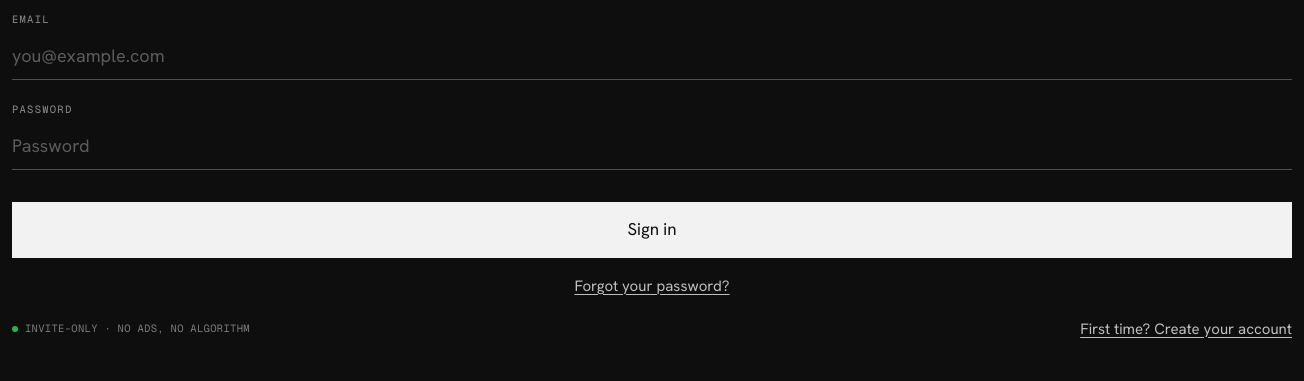
AuthCard › renders the mapped error for wrong credentials
In the field with placeholder "you@example.com": [652, 56] box [12, 32, 1292, 80], type "a@b.com"
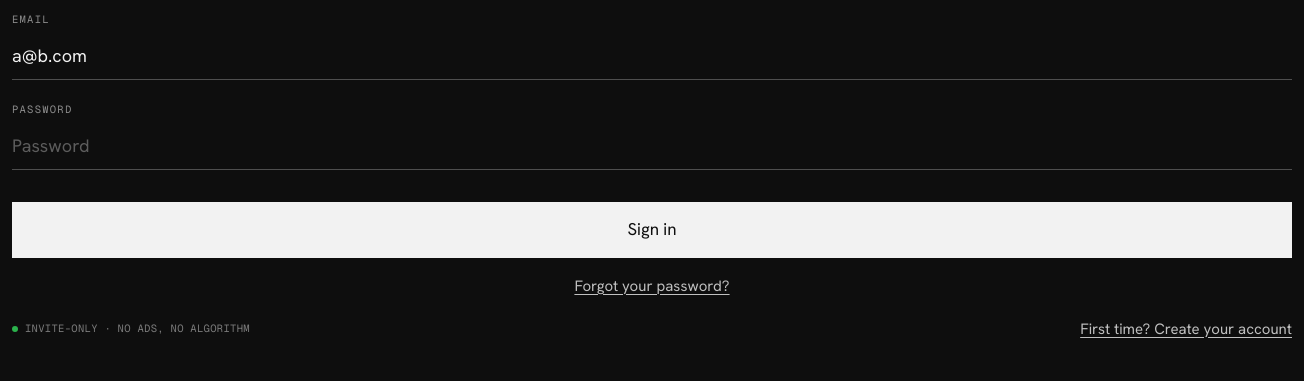
In the password field with placeholder "Password": [652, 146] box [12, 122, 1292, 170], type "longenough1"
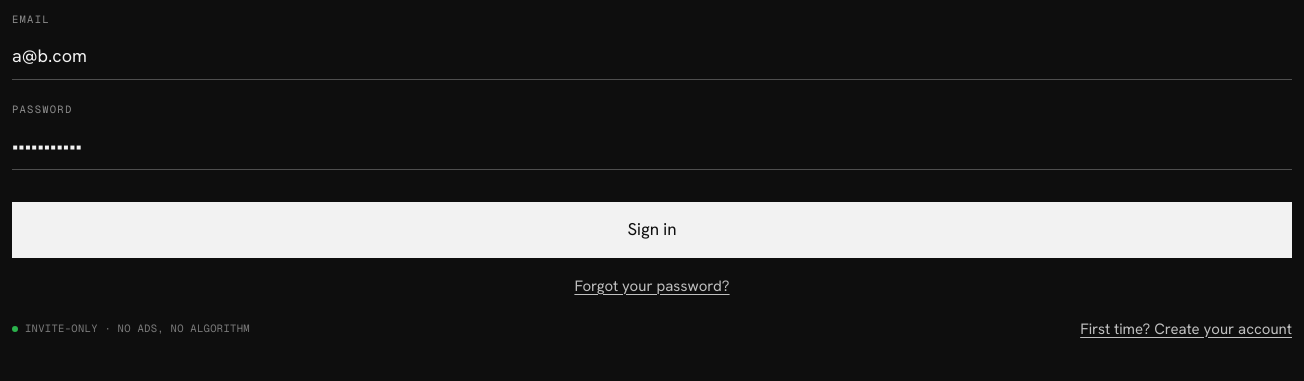
Click the button "Sign in": [652, 230] box [12, 202, 1292, 258]
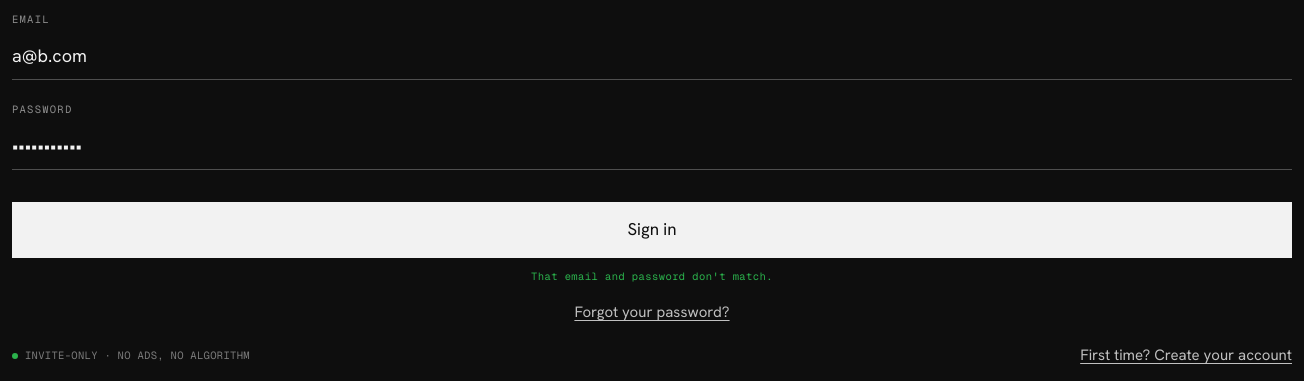
expect the message reads "That email and password don't match.": met, box [531, 268, 773, 282]
